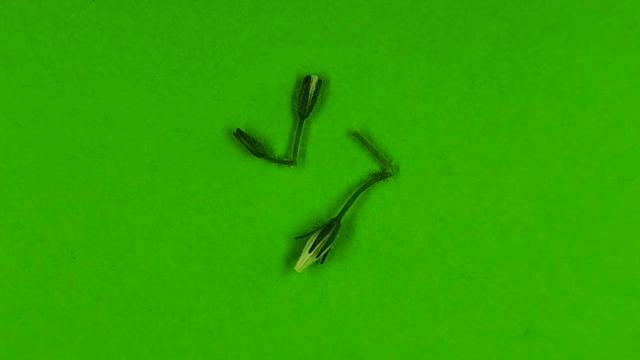Flower Bud: (293, 217, 342, 275), (232, 128, 278, 163), (295, 74, 322, 117)
